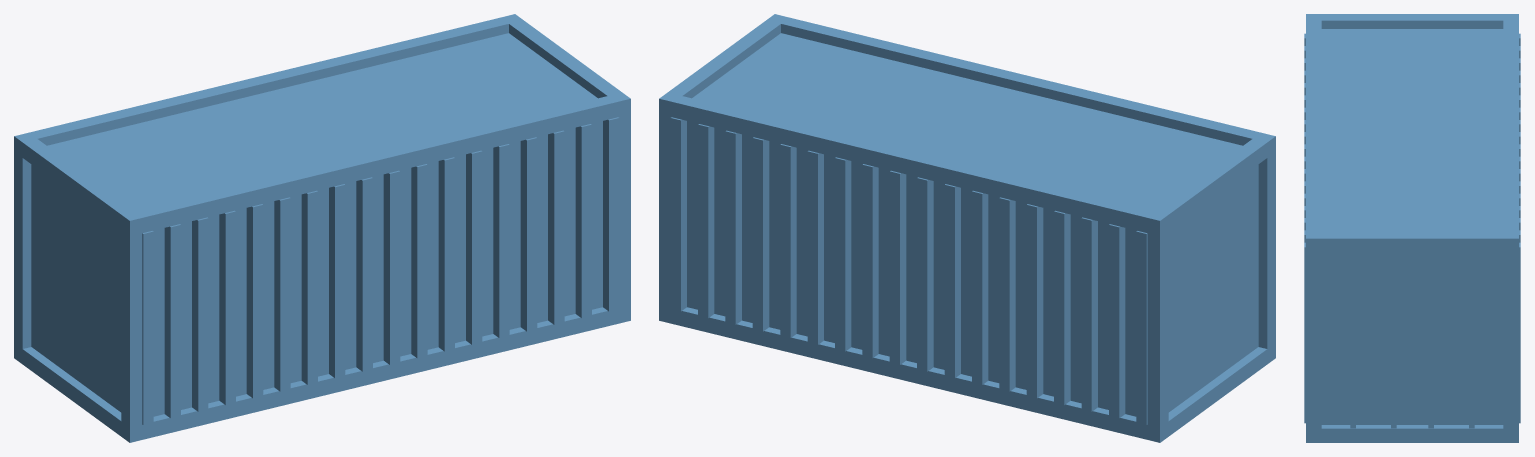
Rendered from Contenedor20.fbx.
3 views of the same model, side by side, from view 1: azimuth 30°, elevation 25°; view 2: azimuth 150°, elevation 25°; view 3: azimuth 270°, elevation 25° (orthographic). The views are drawn at different scales.
Parts seen in each view (by area): view 1: Contenedor20; view 2: Contenedor20; view 3: Contenedor20.
Part boxes in pixels (left/top/right/bottom): Contenedor20: left=14, top=14, right=630, bottom=442; Contenedor20: left=659, top=14, right=1275, bottom=442; Contenedor20: left=1304, top=14, right=1520, bottom=442.
Bounding box in the file's own units: 1700 × 720 × 692.
